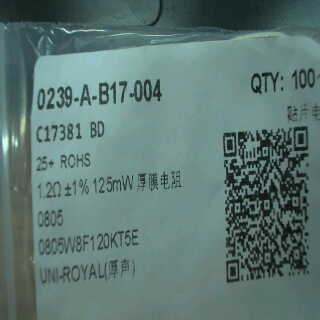1.2R: (36, 177, 66, 231)
